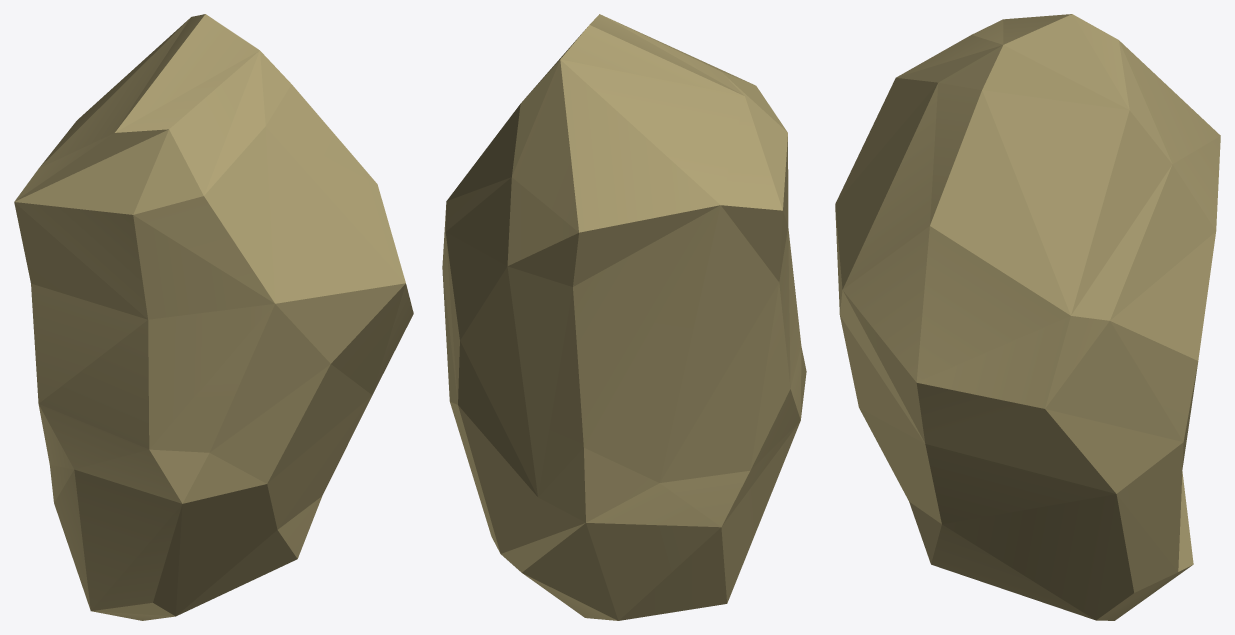
The model's file is SM_small_rock_21.fbx.
3 views of the same model, side by side, from view 1: azimuth 30°, elevation 25°; view 2: azimuth 150°, elevation 25°; view 3: azimuth 270°, elevation 25° (orthographic). The views are drawn at different scales.
Parts seen in each view (by area): view 1: small_rock_21; view 2: small_rock_21; view 3: small_rock_21.
Part boxes in pixels (<box>): small_rock_21: <box>14,14,413,620</box>; small_rock_21: <box>442,14,806,620</box>; small_rock_21: <box>835,14,1220,620</box>.
Size of the model in its own units: 66.22 by 103 by 58.71.
